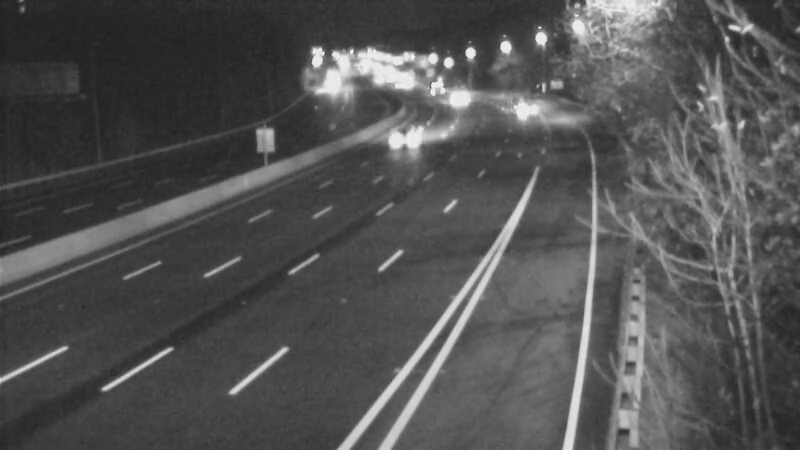vehicle: (406, 62, 456, 112), (499, 75, 549, 125), (436, 74, 486, 124), (384, 113, 434, 163)
